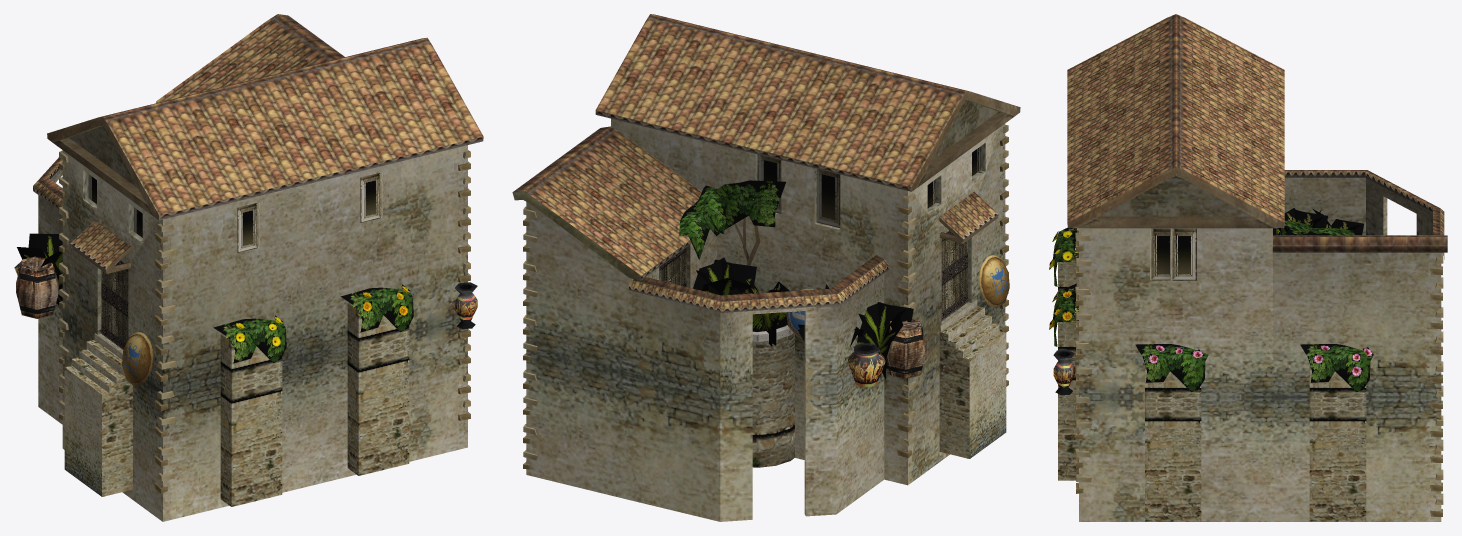
Rendered from mace_house.glb.
The picture shows the model from 3 angles, left to right: view 1: azimuth 30°, elevation 25°; view 2: azimuth 150°, elevation 25°; view 3: azimuth 270°, elevation 25°; orthographic projection. The views are drawn at different scales.
Visible parts, largest first — view 1: mace_house_part0, mace_house_part4, mace_house_part2, mace_house_part1; view 2: mace_house_part0, mace_house_part2, mace_house_part4, mace_house_part1; view 3: mace_house_part0, mace_house_part2, mace_house_part4.
Part boxes in pixels (x1,y1,x2,y2): mace_house_part0: (33,14,483,521); mace_house_part4: (14,172,477,349); mace_house_part2: (17,233,413,363); mace_house_part1: (122,331,153,386); mace_house_part0: (512,14,1020,521); mace_house_part2: (679,180,913,379); mace_house_part4: (659,147,980,387); mace_house_part1: (786,254,1009,339); mace_house_part0: (1058,14,1447,521); mace_house_part2: (1049,208,1373,391); mace_house_part4: (1053,228,1196,395).
Size of the model in its own units: 2.4 by 2.35 by 2.36.
6 materials, 6 textured.
